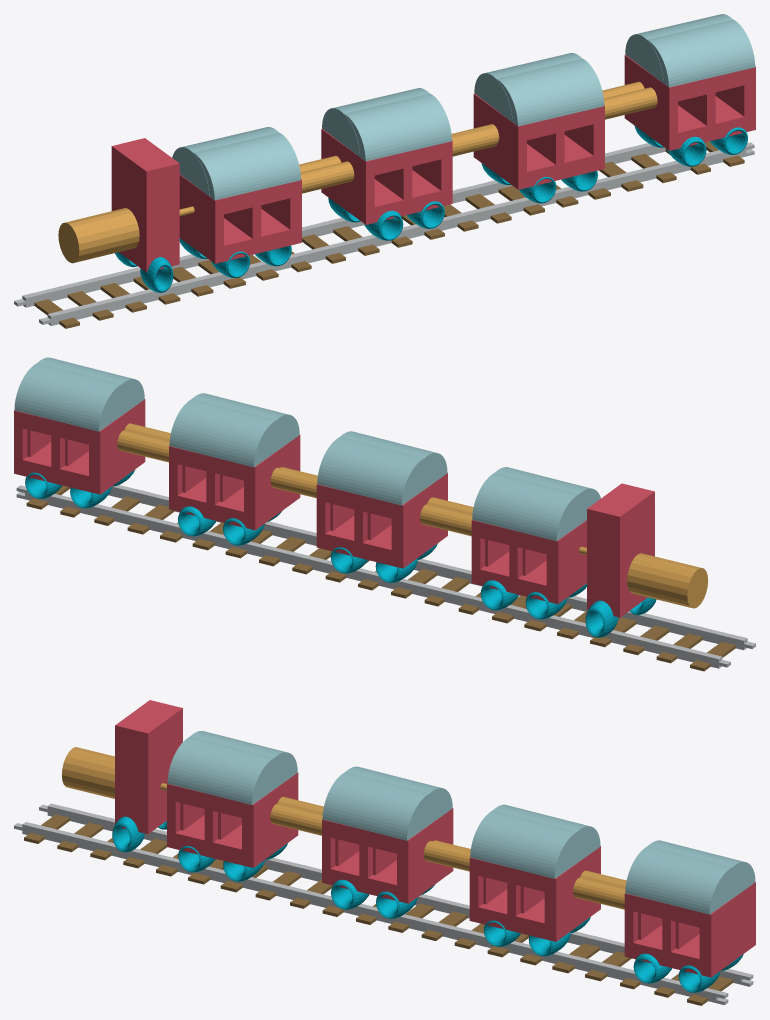
File: Dazzling Curcan.glb
3 views of the same model, one above another, from view 1: azimuth 30°, elevation 25°; view 2: azimuth 150°, elevation 25°; view 3: azimuth 330°, elevation 25° (orthographic).
Parts seen in each view (by area): view 1: Mesh_Mesh_head_geo.001_lambert2SG.001; view 2: Mesh_Mesh_head_geo.001_lambert2SG.001; view 3: Mesh_Mesh_head_geo.001_lambert2SG.001.
Boxes of the visible parts, x1,y1,x2,y2 form: Mesh_Mesh_head_geo.001_lambert2SG.001: (14, 14, 755, 328); Mesh_Mesh_head_geo.001_lambert2SG.001: (14, 357, 755, 671); Mesh_Mesh_head_geo.001_lambert2SG.001: (14, 700, 755, 1005).
Bounding box in the file's own units: 236 × 42 × 29.
